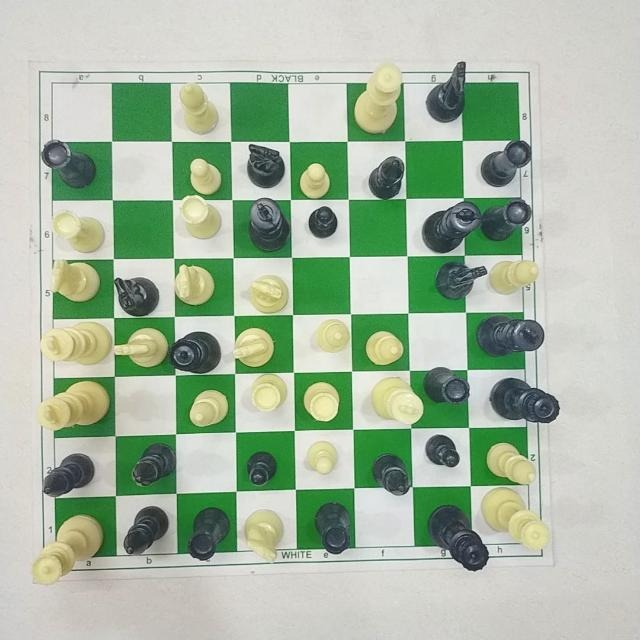black-bishop: (32, 451, 102, 496), (121, 501, 174, 556), (366, 446, 416, 502), (128, 439, 180, 486), (364, 152, 411, 201)
black-king: (474, 313, 548, 357), (423, 197, 481, 252), (246, 195, 293, 254)
black-knight: (420, 57, 478, 126), (433, 260, 491, 302), (112, 272, 164, 318), (241, 141, 287, 191)
black-pawn: (422, 433, 465, 473), (245, 446, 285, 488), (305, 203, 341, 242)
black-queen: (424, 500, 490, 578), (483, 369, 565, 427), (171, 329, 221, 376)
black-rook: (38, 133, 102, 192), (478, 136, 540, 192), (185, 503, 232, 560), (313, 500, 356, 557), (487, 197, 537, 245), (422, 363, 473, 407)
white-bishop: (176, 79, 230, 140), (487, 438, 541, 489), (488, 253, 544, 298), (185, 385, 234, 427), (361, 326, 407, 366), (319, 313, 353, 351)
white-king: (34, 378, 112, 434), (36, 319, 111, 369), (370, 375, 428, 427)
white-knight: (242, 506, 290, 560), (114, 323, 172, 367), (49, 256, 101, 304), (172, 260, 220, 308), (247, 267, 291, 319), (234, 326, 278, 370)
white-pawn: (187, 155, 227, 198), (301, 437, 343, 477), (297, 164, 335, 200)
white-queen: (15, 510, 108, 587), (481, 482, 553, 553), (353, 62, 407, 136)
white-rook: (48, 205, 110, 256), (176, 193, 226, 241), (301, 376, 342, 425), (249, 372, 288, 412)
